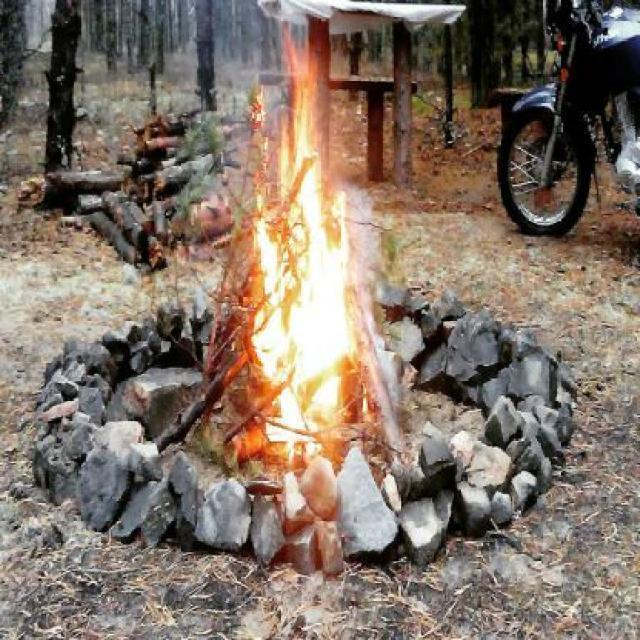Fire: (230, 26, 375, 446)
